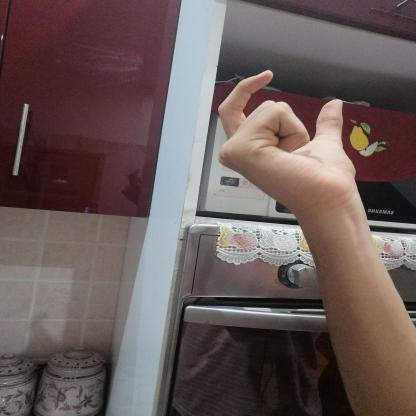NOON: (202, 63, 371, 218)
